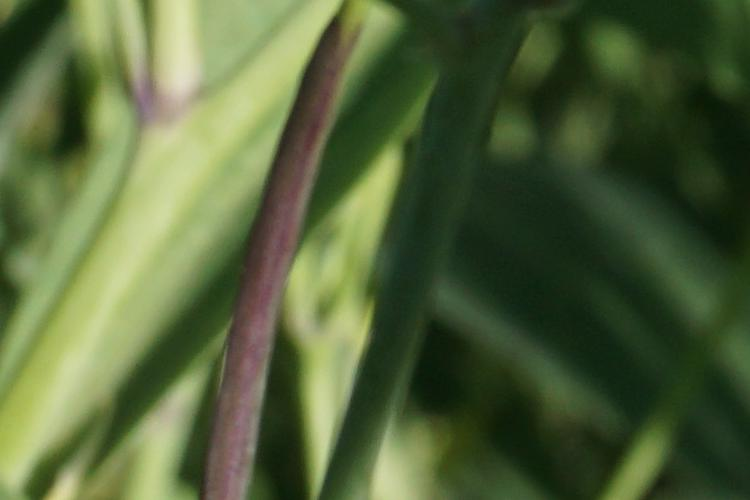pod: (187, 20, 351, 482)
